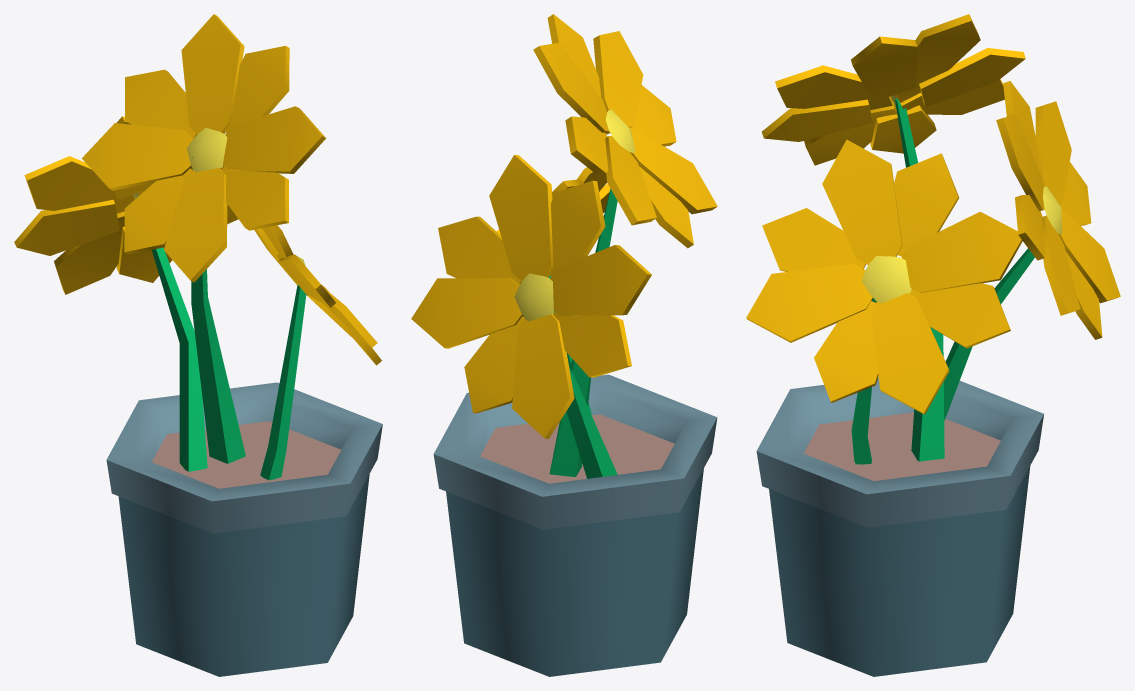
The model's file is flower_004.glb.
The picture shows the model from 3 angles, left to right: view 1: azimuth 30°, elevation 25°; view 2: azimuth 150°, elevation 25°; view 3: azimuth 270°, elevation 25°; orthographic projection. The views are drawn at different scales.
Visible parts, largest first — view 1: flower_004; view 2: flower_004; view 3: flower_004.
Part boxes in pixels (<box>): flower_004: <box>14,14,382,676</box>; flower_004: <box>411,14,717,676</box>; flower_004: <box>746,14,1120,676</box>.
Bounding box in the file's own units: 0.1969 × 0.412 × 0.2274.
1 material, 1 textured.
